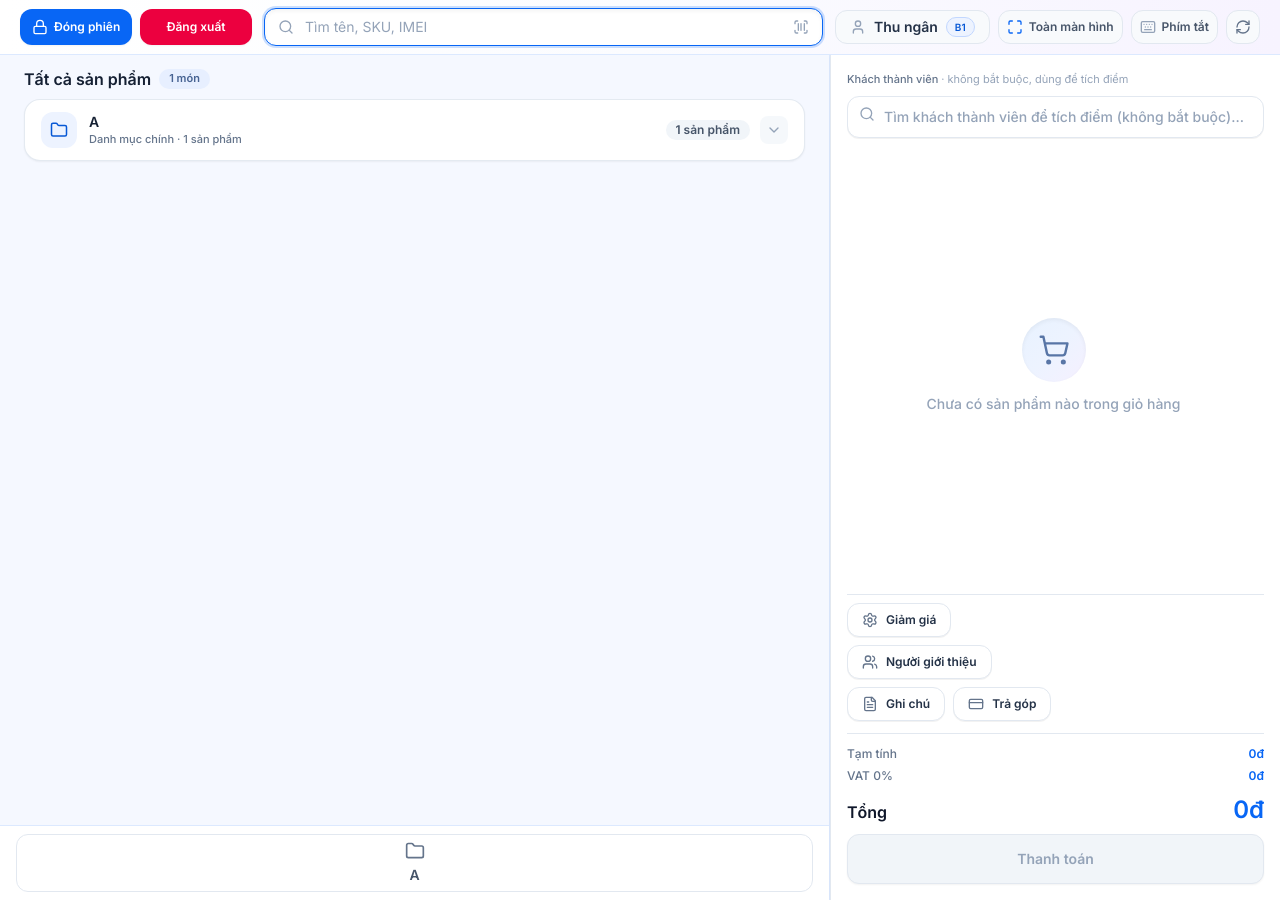
RetailPosPage › does not add a serial product when the picker is empty
The image size is (1280, 900).
Click the button "A Danh mục chính · 1 sản phẩm 1 sản phẩm" at (59, 130), box top-left (25, 100), bottom-right (804, 160)
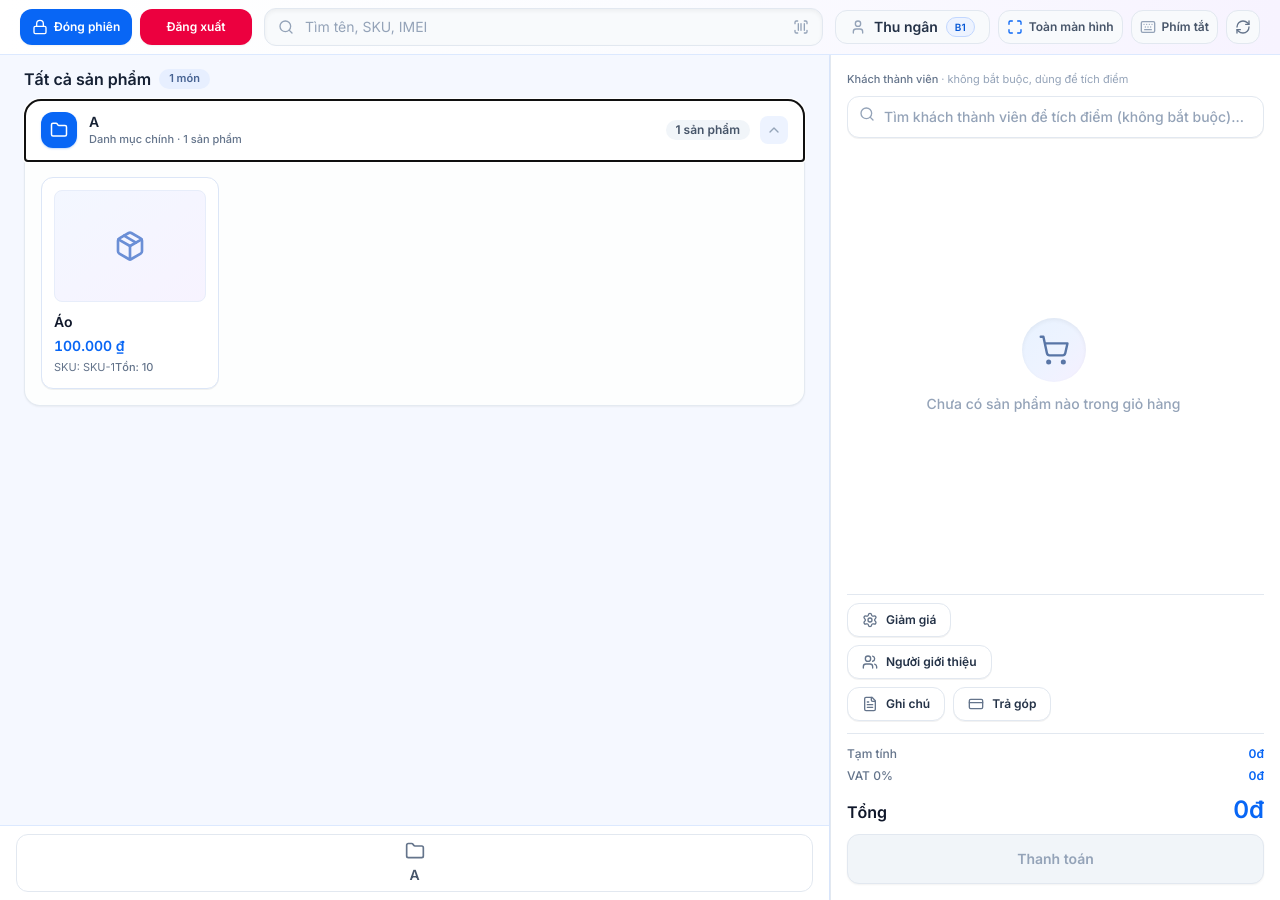
Click the button "Áo 100.000 ₫ SKU: SKU-1 Tồn: 10" at (130, 283), box top-left (54, 190), bottom-right (206, 376)
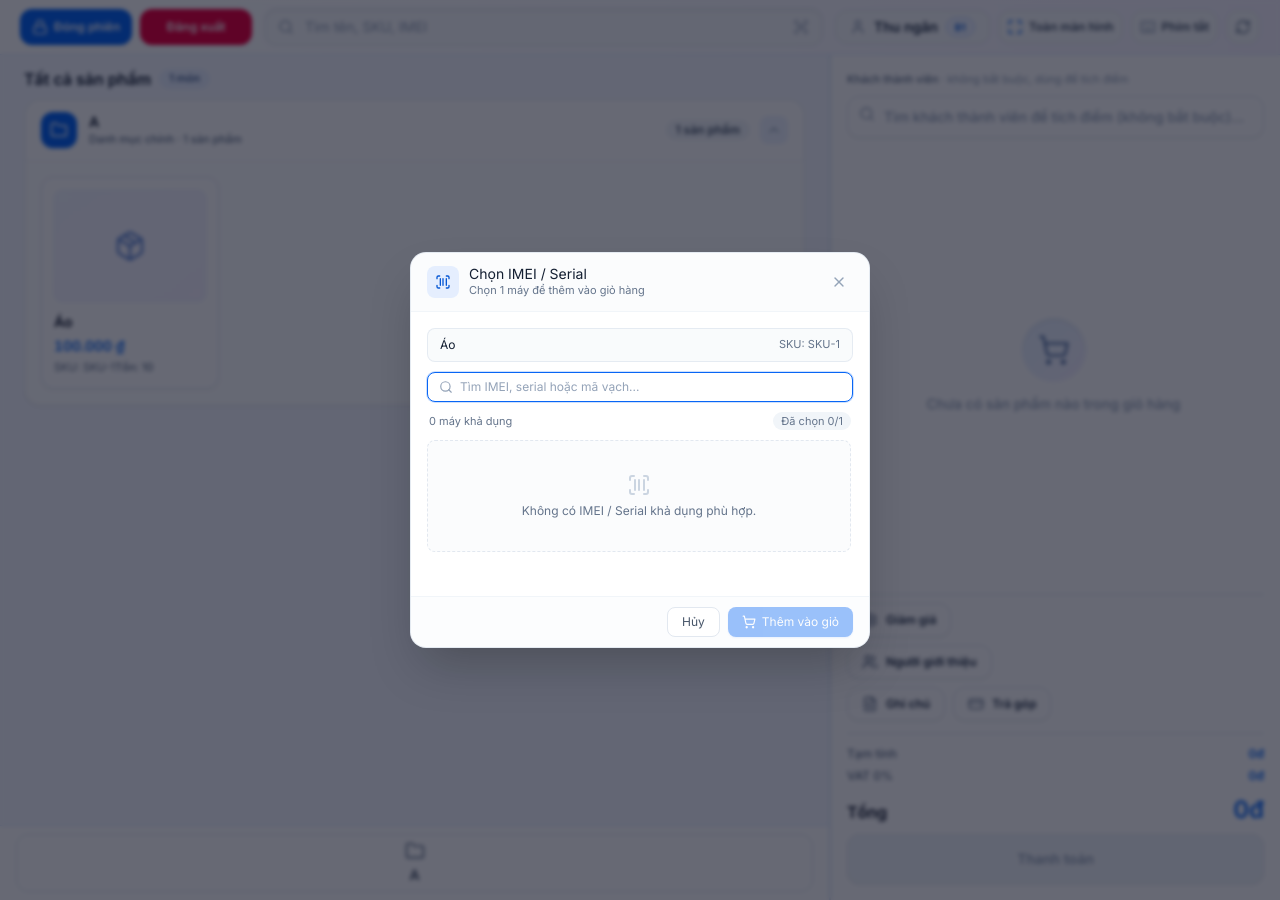
Expected: the text "Không có IMEI / Serial khả dụng phù hợp." is shown, top-left (522, 503), bottom-right (756, 519)
Expected: the button "Thêm vào giỏ" is disabled, top-left (728, 607), bottom-right (853, 637)
